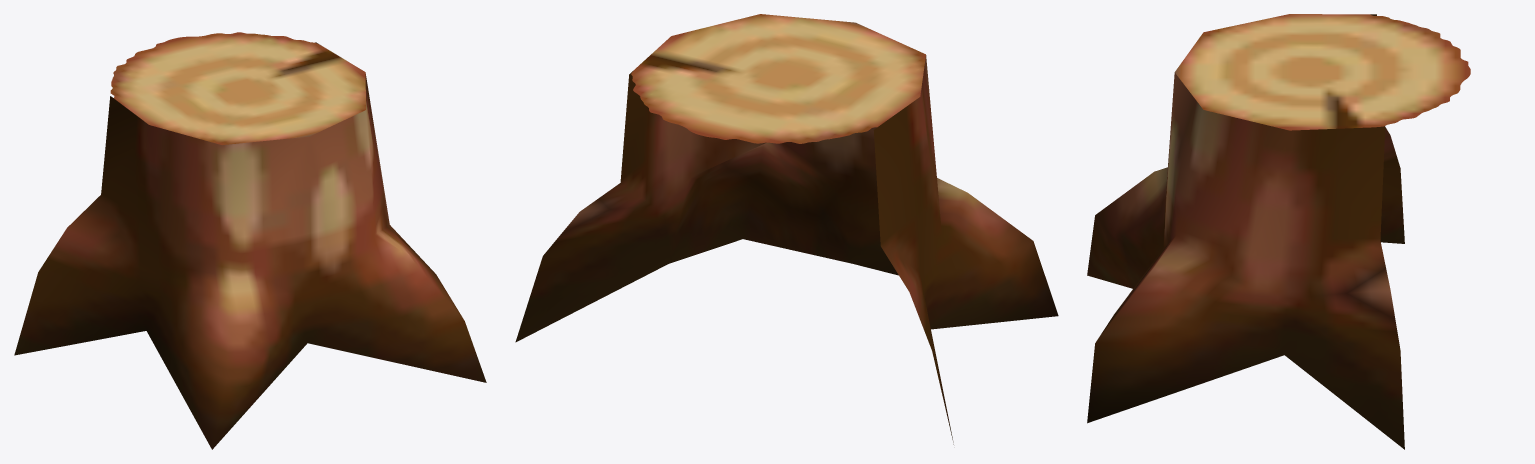
Rendered from fg_treeB_4_b.dae.
3 views of the same model, side by side, from view 1: azimuth 30°, elevation 25°; view 2: azimuth 150°, elevation 25°; view 3: azimuth 270°, elevation 25° (orthographic). The views are drawn at different scales.
Parts seen in each view (by area): view 1: vsn_mesh_0_; view 2: vsn_mesh_0_; view 3: vsn_mesh_0_.
Boxes of the visible parts, x1=… form: vsn_mesh_0_: x1=14, y1=32, x2=486, y2=449; vsn_mesh_0_: x1=515, y1=14, x2=1058, y2=444; vsn_mesh_0_: x1=1087, y1=14, x2=1470, y2=449.
Size of the model in its own units: 31.18 by 19.55 by 27.75.
